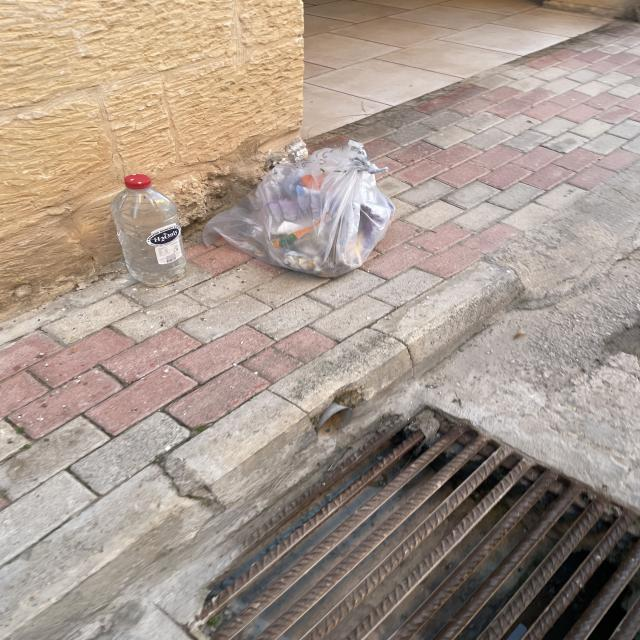grey_bag: (202, 138, 400, 278)
other_waste: (108, 170, 193, 288)
